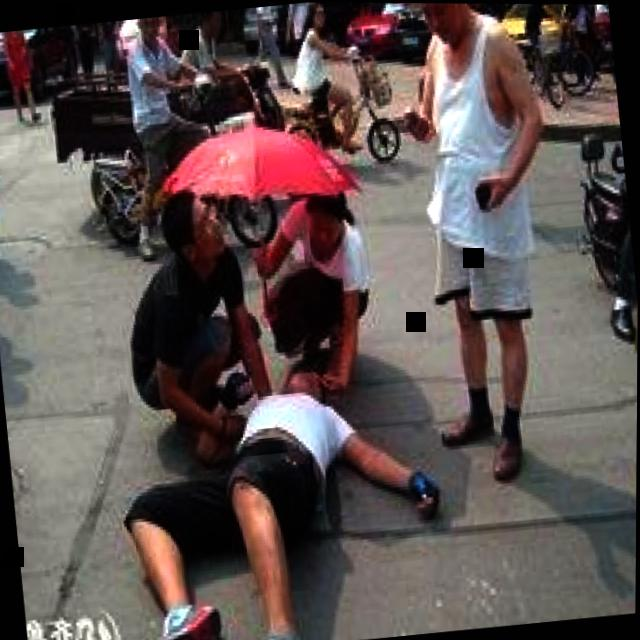Fall-Detected: (94, 320, 477, 640)
